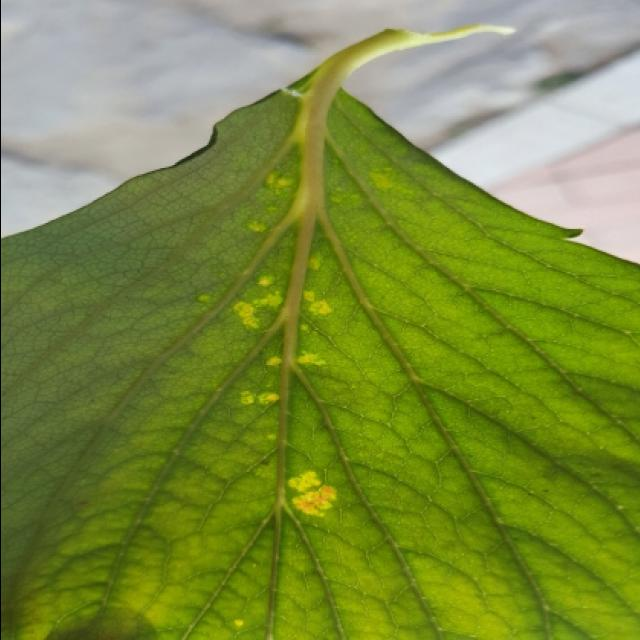Angular Leafspot: (187, 159, 343, 634)
